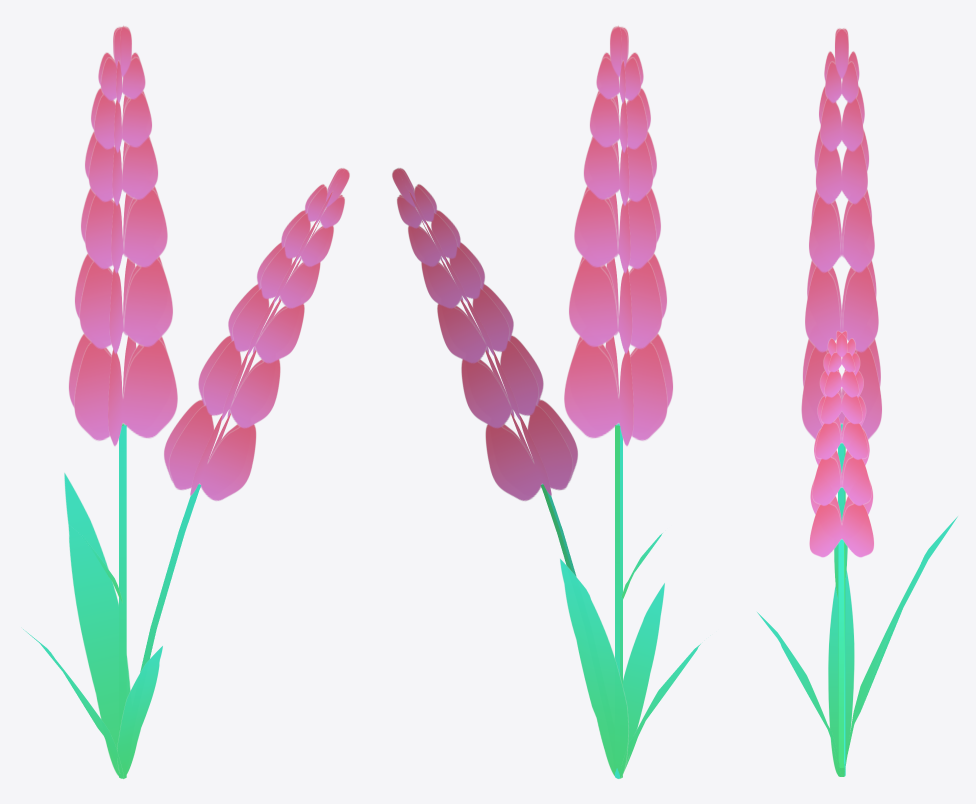
Rendered from Flowers_n03_03.glb.
3 views of the same model, side by side, from view 1: azimuth 30°, elevation 25°; view 2: azimuth 150°, elevation 25°; view 3: azimuth 270°, elevation 25° (orthographic).
Parts seen in each view (by area): view 1: polySurface448.001; view 2: polySurface448.001; view 3: polySurface448.001.
Part boxes in pixels (<box>): polySurface448.001: <box>21,25,349,779</box>; polySurface448.001: <box>392,25,700,779</box>; polySurface448.001: <box>757,28,957,776</box>.
Size of the model in its own units: 0.408 by 0.8924 by 0.2186.
Materials: 1 (1 with a texture image).
